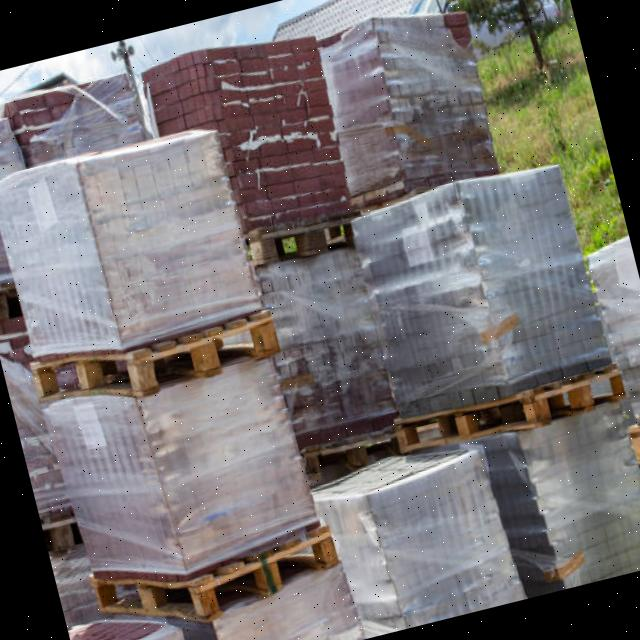Wooden-Pallets: (83, 522, 337, 625), (390, 358, 634, 456), (28, 309, 284, 401)
